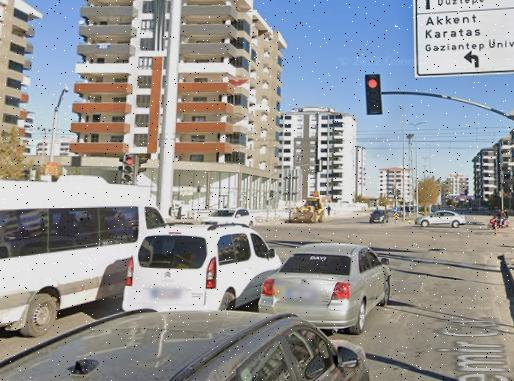redlight: (365, 74, 381, 113), (122, 153, 136, 183)
